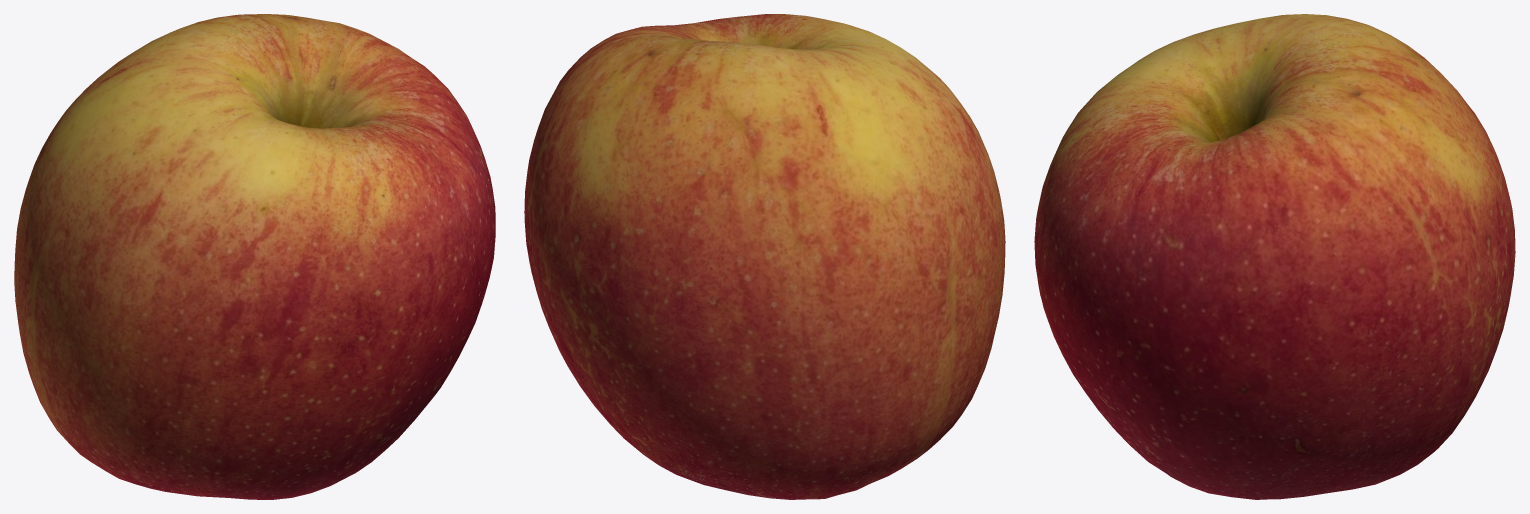
The model's file is apple.fbx.
3 renders of one model, left to right at view 1: azimuth 30°, elevation 25°; view 2: azimuth 150°, elevation 25°; view 3: azimuth 270°, elevation 25°, orthographic. The views are drawn at different scales.
Parts seen in each view (by area): view 1: apple_mesh; view 2: apple_mesh; view 3: apple_mesh.
Part boxes in pixels (x1,y1,x2,y2): apple_mesh: [14, 14, 495, 499]; apple_mesh: [524, 14, 1005, 499]; apple_mesh: [1034, 14, 1515, 499].
Size of the model in its own units: 8.34 by 7.87 by 8.14.
